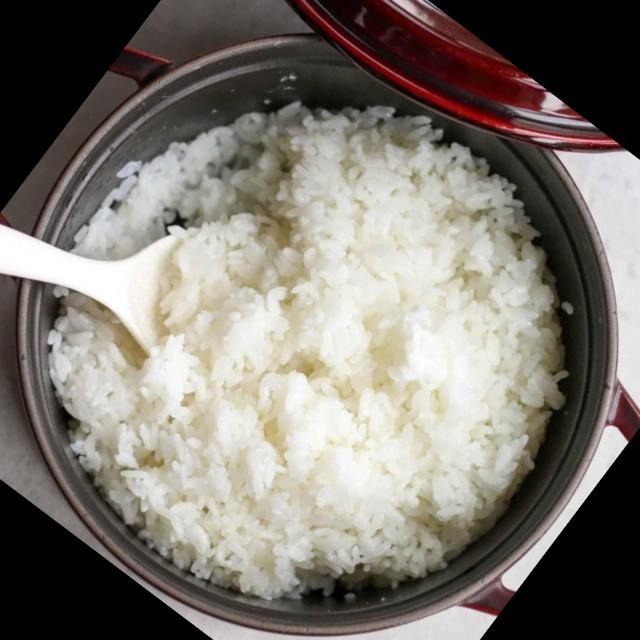rice: (44, 100, 571, 598)
